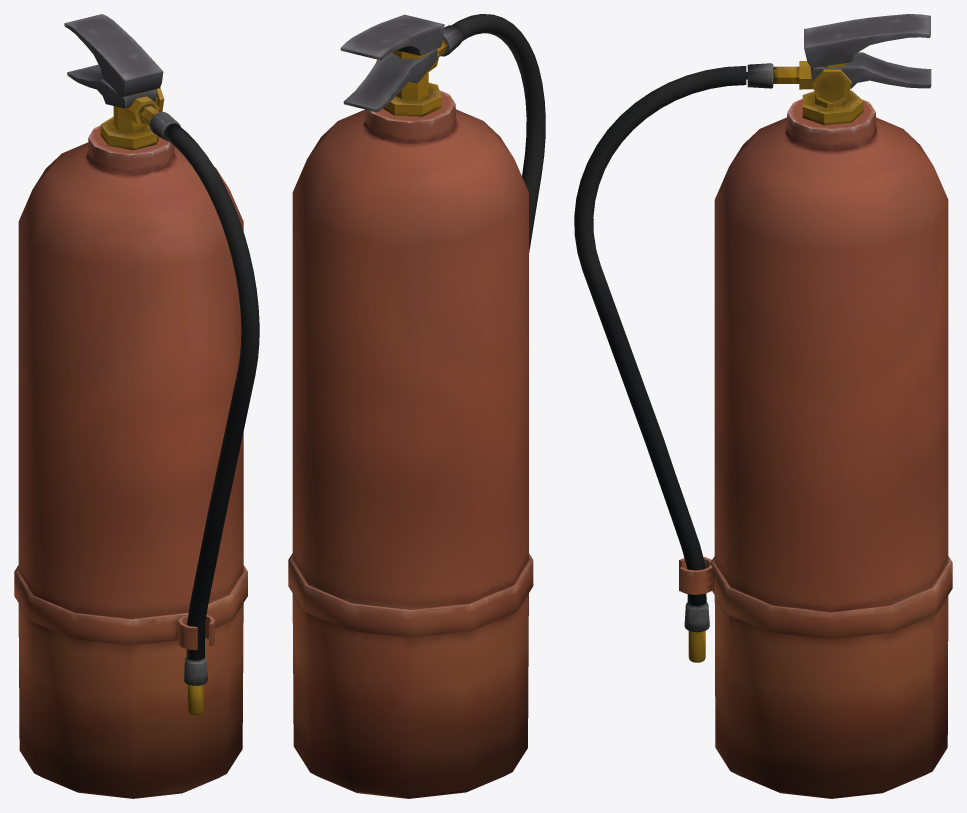
Rendered from Extinguisher.fbx.
3 views of the same model, side by side, from view 1: azimuth 30°, elevation 25°; view 2: azimuth 150°, elevation 25°; view 3: azimuth 270°, elevation 25° (orthographic). The views are drawn at different scales.
Parts seen in each view (by area): view 1: GoldValve; view 2: GoldValve; view 3: GoldValve.
Part boxes in pixels (x1,y1,x2,y2): GoldValve: [14, 14, 259, 798]; GoldValve: [288, 14, 545, 798]; GoldValve: [574, 14, 952, 798].
Size of the model in its own units: 77.03 by 256 by 120.
1 material, 1 textured.
